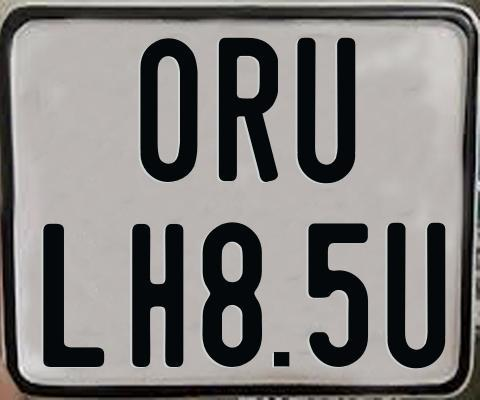0: (140, 37, 200, 187)
5: (305, 220, 370, 367)
8: (200, 221, 264, 368)
H: (130, 221, 183, 370)
L: (41, 222, 107, 370)
R: (219, 37, 278, 182)
U: (387, 223, 452, 374), (296, 37, 359, 188)
